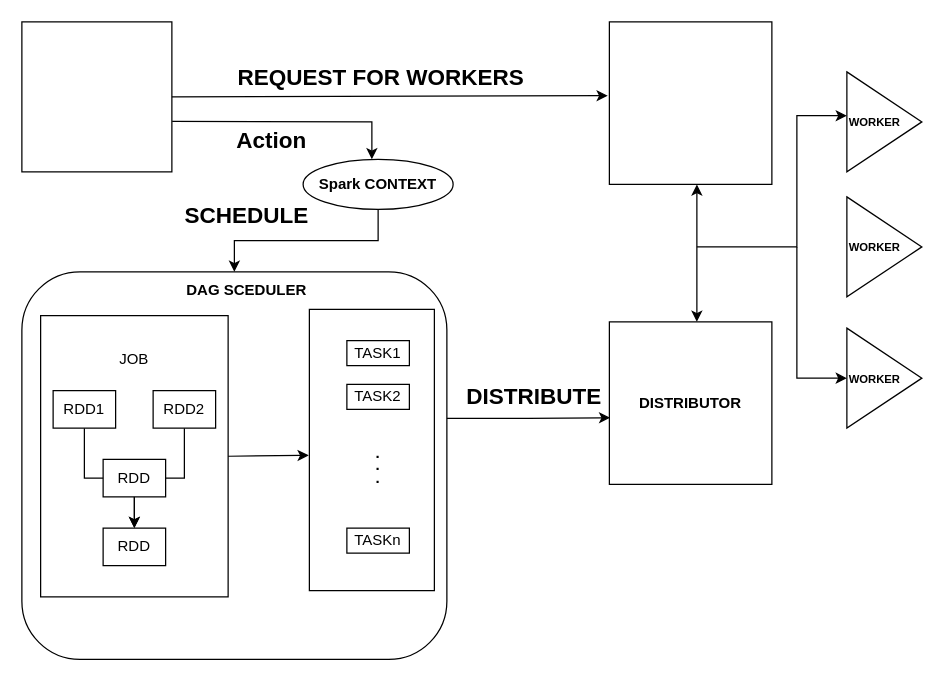
This 944x681 diagram has some shape labels left out. The shapes that lost their labels are listed below. From the top down, each one's centre as x and y in pixels, then its label:
the point at 96,96: DRIVER PROGRAM
the point at 690,102: CLUSTER MANAGER
